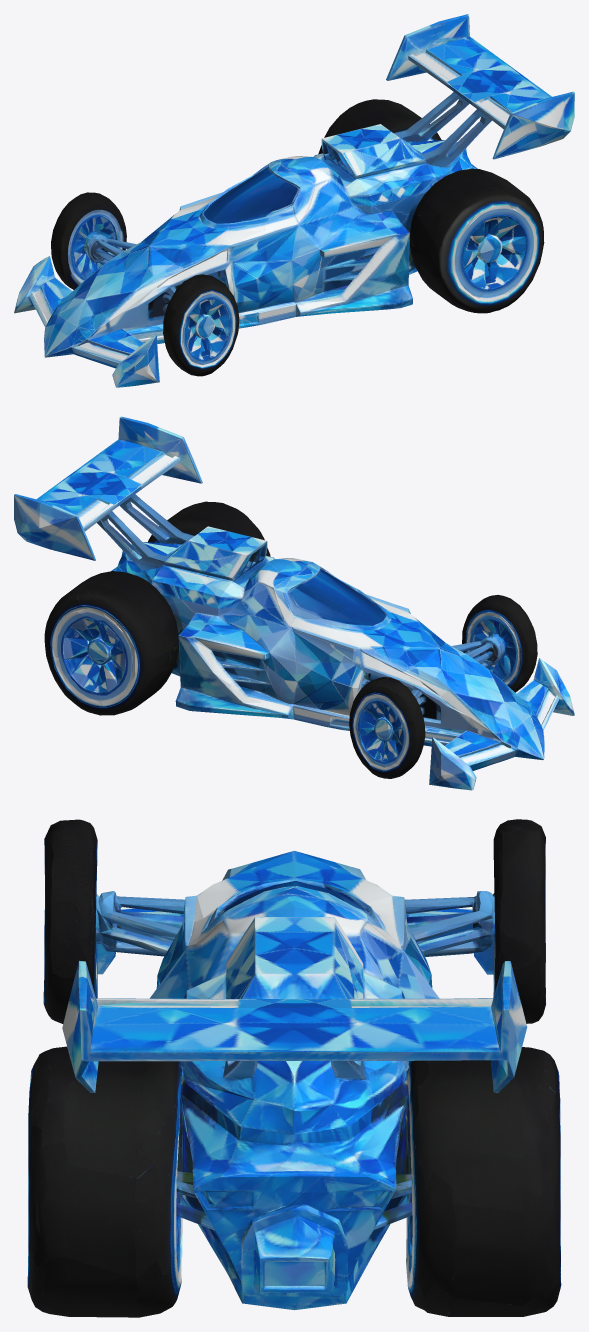
The model's file is diamond_dragster.glb.
The picture shows the model from 3 angles, top to bottom: view 1: azimuth 30°, elevation 25°; view 2: azimuth 150°, elevation 25°; view 3: azimuth 270°, elevation 25°; orthographic projection. The views are drawn at different scales.
Bounding box in the file's own units: 1.9 × 0.734 × 0.9198.
Materials: 1 (1 with a texture image).
